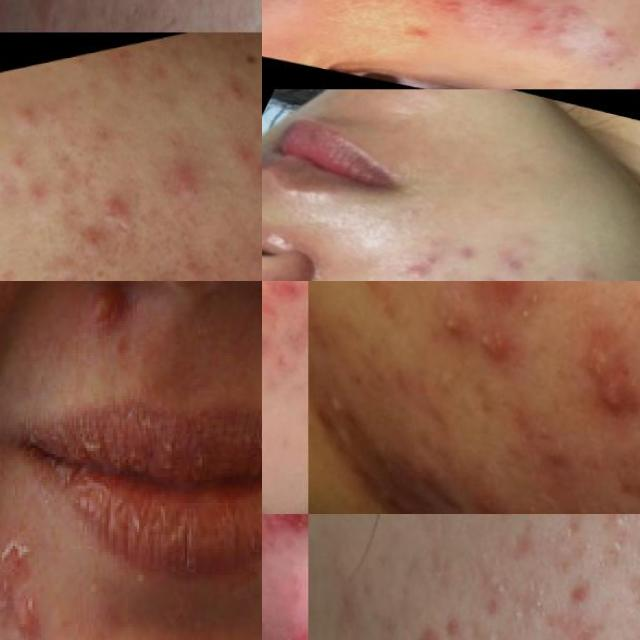acne_scars: (534, 597, 605, 640), (586, 540, 632, 592), (619, 570, 640, 625), (131, 269, 189, 281)
comedone: (474, 562, 516, 604), (431, 0, 477, 21), (294, 306, 308, 373), (506, 598, 529, 629), (480, 628, 503, 640)
papule: (524, 428, 592, 482), (152, 148, 204, 208), (94, 178, 140, 234), (558, 567, 602, 624), (4, 85, 47, 137), (453, 480, 515, 514), (500, 14, 565, 46), (262, 281, 308, 315), (460, 0, 538, 20), (487, 248, 534, 281), (582, 21, 632, 50), (223, 140, 260, 178), (403, 619, 454, 640), (398, 258, 444, 281), (563, 0, 603, 22)
pustule: (477, 281, 522, 314)
sebo-crystan-conglo: (572, 336, 640, 420), (262, 513, 308, 557)
